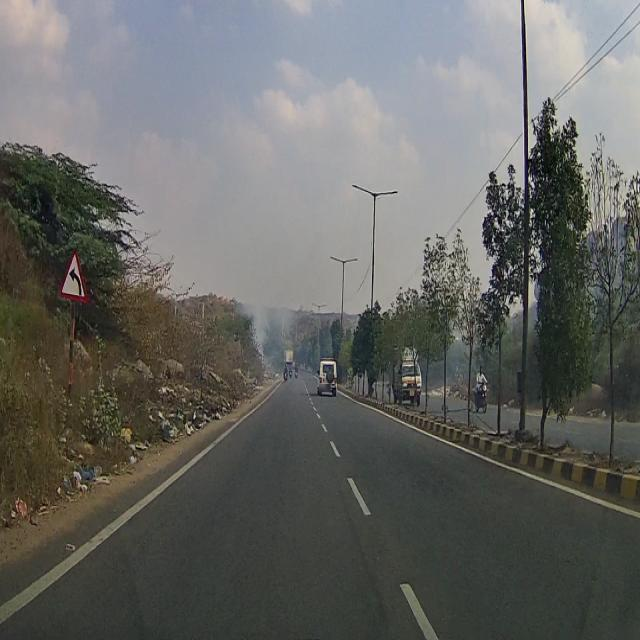left-hand-curve: (57, 256, 89, 303)
